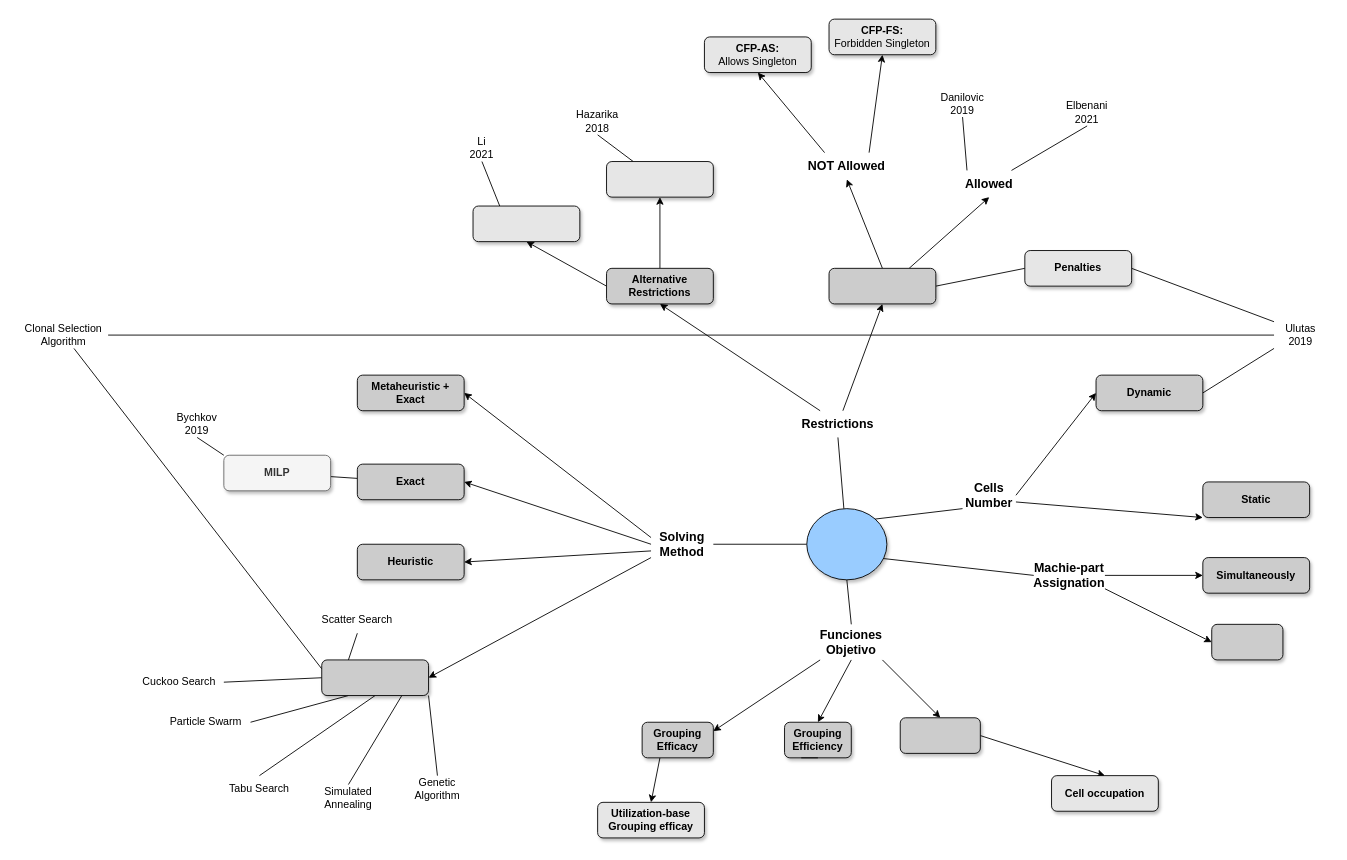
Image size: 1347x860. Some labels were removed from this diagram. The centre of each missing label's shape, as x and y in pixels:
CFP: (847,545)
Machines: (527,225)
Metaheuristic: (375,678)
Multiobjective: (941,736)
Residual Cells: (883,287)
Routings: (660,180)
Separateky: (1247,643)
